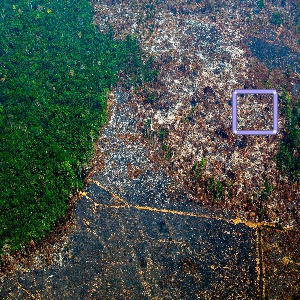square: (233, 89, 278, 135)
